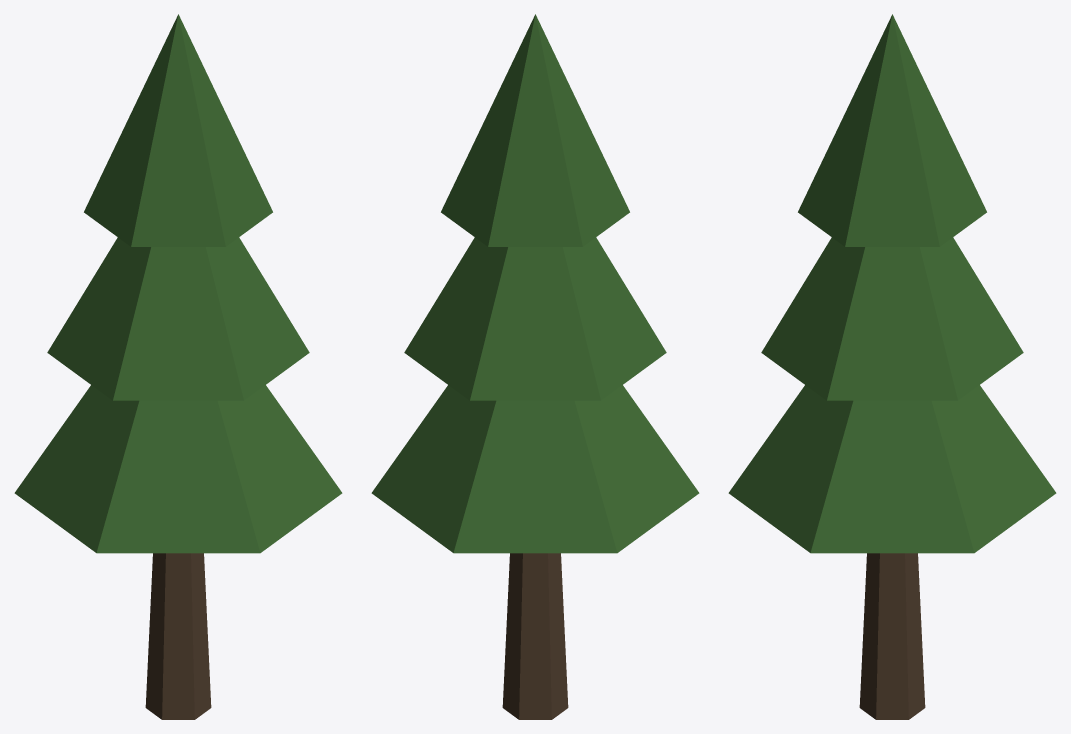
Rendered from tree-pine.glb.
The picture shows the model from 3 angles, left to right: view 1: azimuth 30°, elevation 25°; view 2: azimuth 150°, elevation 25°; view 3: azimuth 270°, elevation 25°; orthographic projection.
Visible parts, largest first — view 1: tier_0, tier_1, tier_2, trunk; view 2: tier_0, tier_1, tier_2, trunk; view 3: tier_0, tier_1, tier_2, trunk.
Boxes of the visible parts, box(x1,y1,x2,y2) form: tier_0: box(14, 385, 342, 553); tier_1: box(47, 237, 309, 400); tier_2: box(84, 14, 272, 246); trunk: box(145, 553, 211, 719); tier_0: box(371, 385, 699, 553); tier_1: box(404, 237, 666, 400); tier_2: box(441, 14, 629, 246); trunk: box(502, 553, 568, 719); tier_0: box(728, 385, 1056, 553); tier_1: box(761, 237, 1023, 400); tier_2: box(798, 14, 986, 246); trunk: box(859, 553, 925, 719).
Bounding box in the file's own units: 0.7794 × 2.1 × 0.9.
